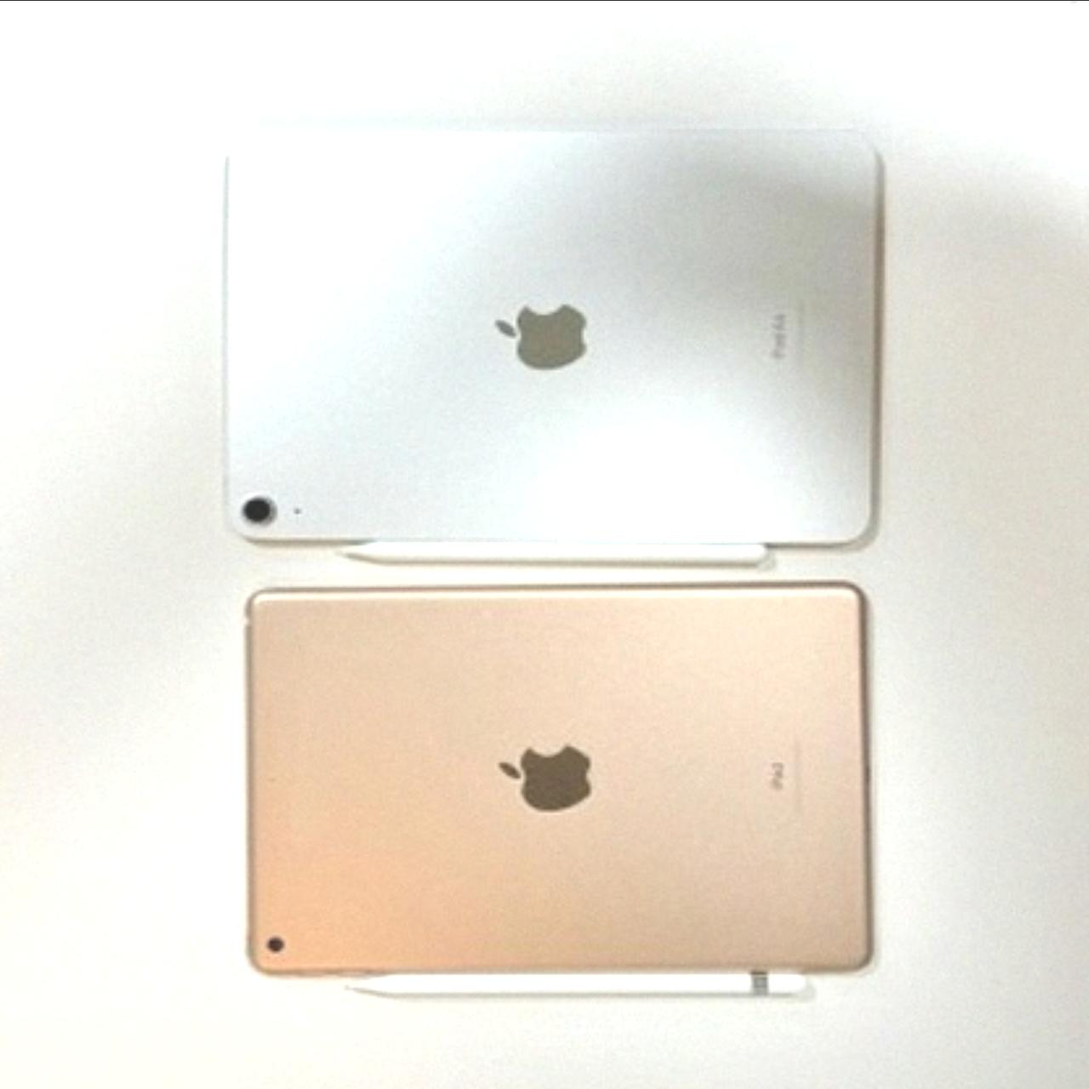Tablet_PC: (217, 116, 892, 584), (230, 568, 884, 1007)
